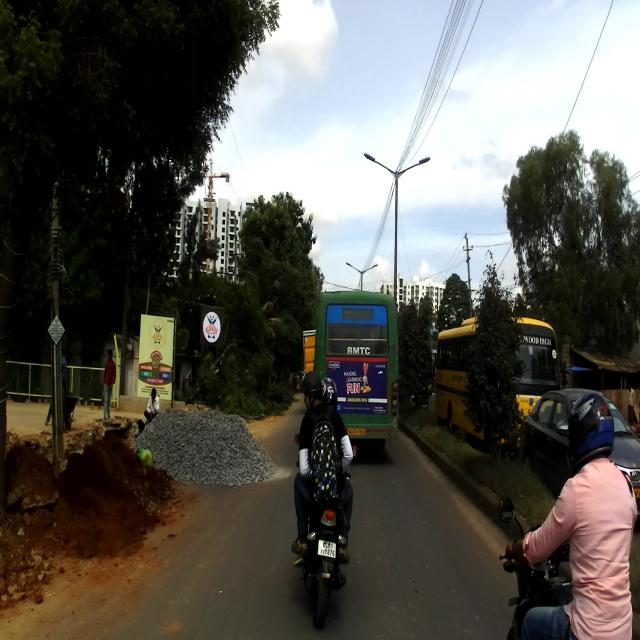bus: (432, 308, 563, 460), (312, 283, 398, 446)
motorcycle_TVS: (292, 428, 358, 629)
